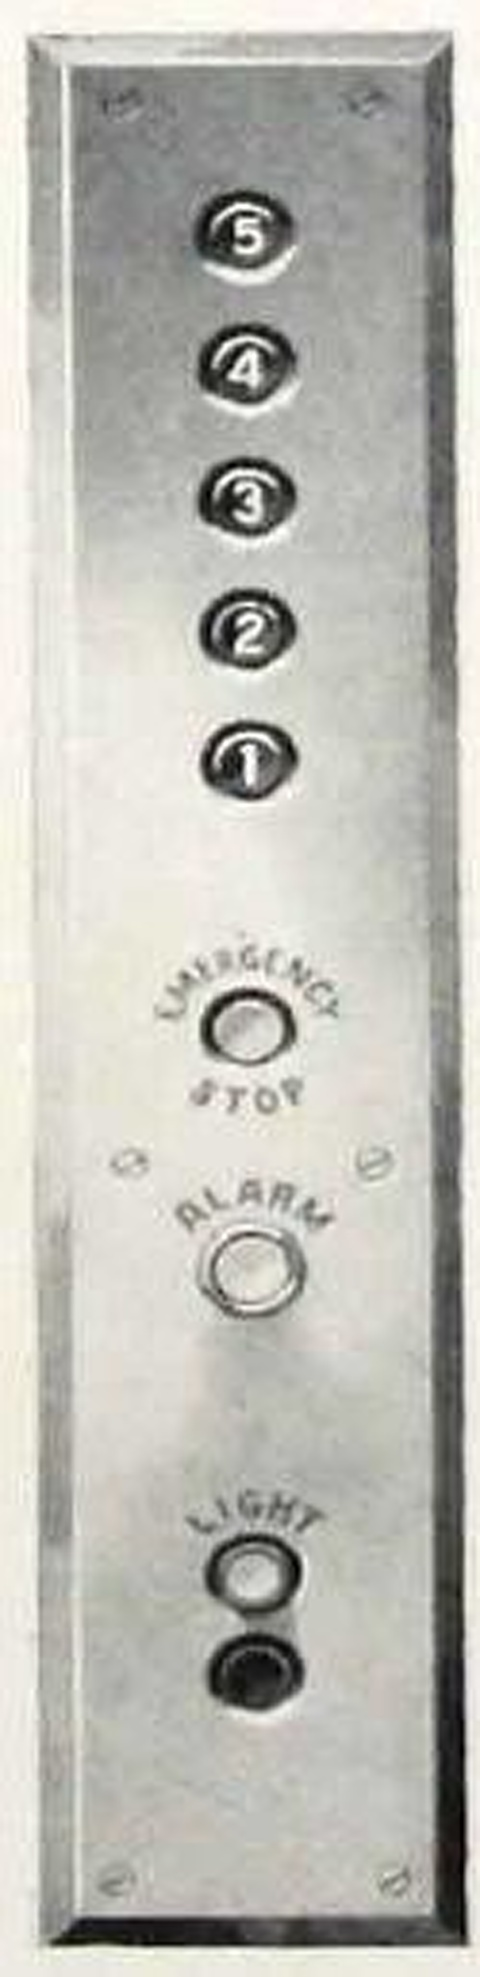1: (193, 719, 301, 804)
2: (191, 588, 304, 675)
3: (197, 451, 302, 543)
4: (188, 318, 300, 415)
5: (190, 187, 302, 287)
empty: (199, 1220, 305, 1320), (204, 1526, 307, 1619), (207, 1632, 306, 1713), (202, 987, 299, 1069)
